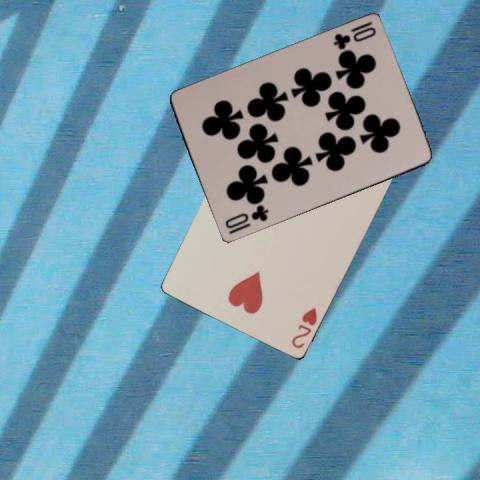10c: (222, 203, 270, 236), (330, 19, 377, 51)
2h: (288, 304, 319, 350)
